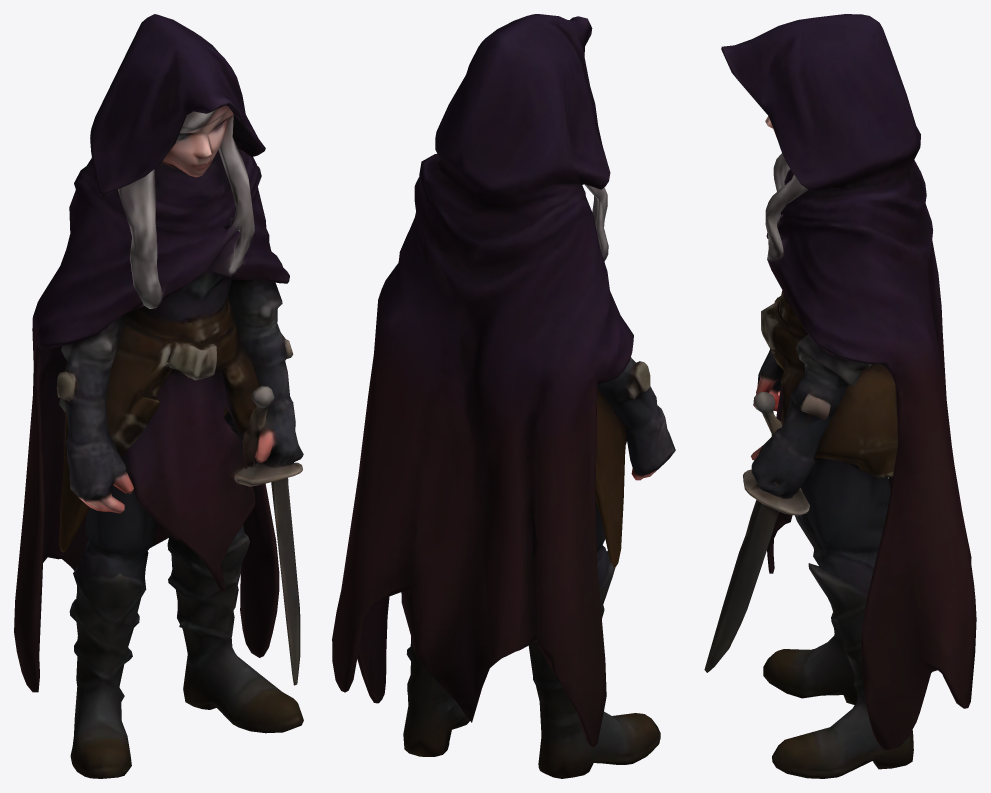
File: saphira.glb
3 views of the same model, side by side, from view 1: azimuth 30°, elevation 25°; view 2: azimuth 150°, elevation 25°; view 3: azimuth 270°, elevation 25° (orthographic).
Visible parts, largest first — view 1: geometry_0; view 2: geometry_0; view 3: geometry_0.
Boxes of the visible parts, x1,y1,x2,y2 form: geometry_0: [14, 14, 303, 778]; geometry_0: [332, 14, 675, 778]; geometry_0: [704, 14, 976, 778].
Size of the model in its own units: 0.369 by 1 by 0.3477.
1 material, 1 textured.
